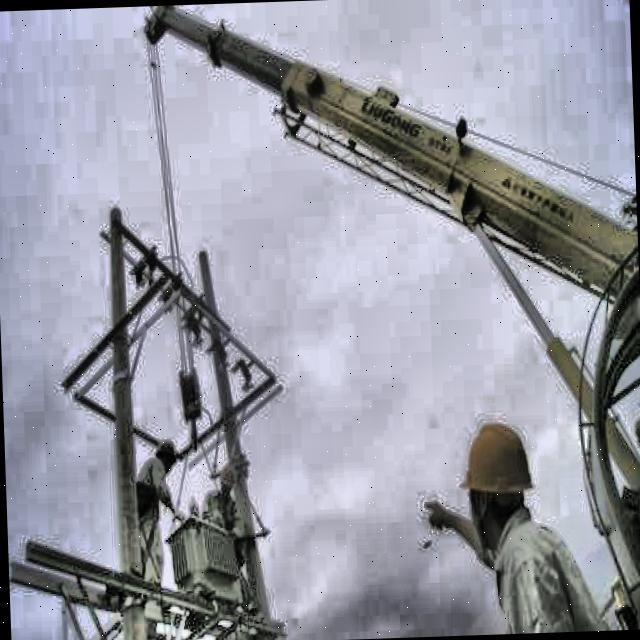helmet: (448, 401, 544, 566), (152, 431, 180, 474)
